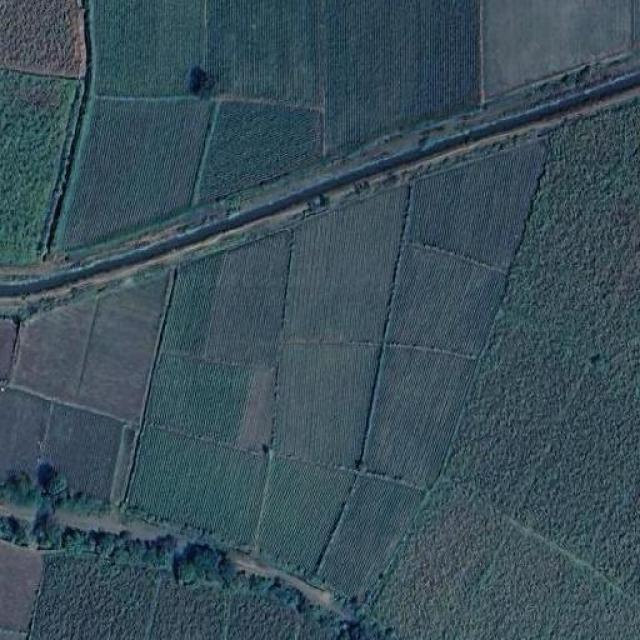land-Sx1C: (367, 103, 640, 640), (29, 556, 366, 640), (49, 98, 212, 257), (327, 0, 483, 161), (440, 521, 639, 640), (366, 478, 510, 638), (284, 188, 410, 344), (403, 138, 546, 273), (157, 230, 290, 368), (123, 429, 269, 554), (484, 0, 640, 115), (363, 345, 481, 490), (314, 470, 433, 612), (0, 67, 80, 268), (384, 245, 512, 362), (78, 271, 172, 426), (199, 0, 325, 112), (271, 343, 383, 467), (144, 353, 277, 453), (247, 461, 354, 578), (201, 107, 324, 205), (38, 403, 137, 514), (92, 2, 207, 94), (10, 296, 98, 403), (0, 1, 83, 75), (0, 387, 50, 502), (0, 537, 44, 640), (0, 319, 18, 379)
